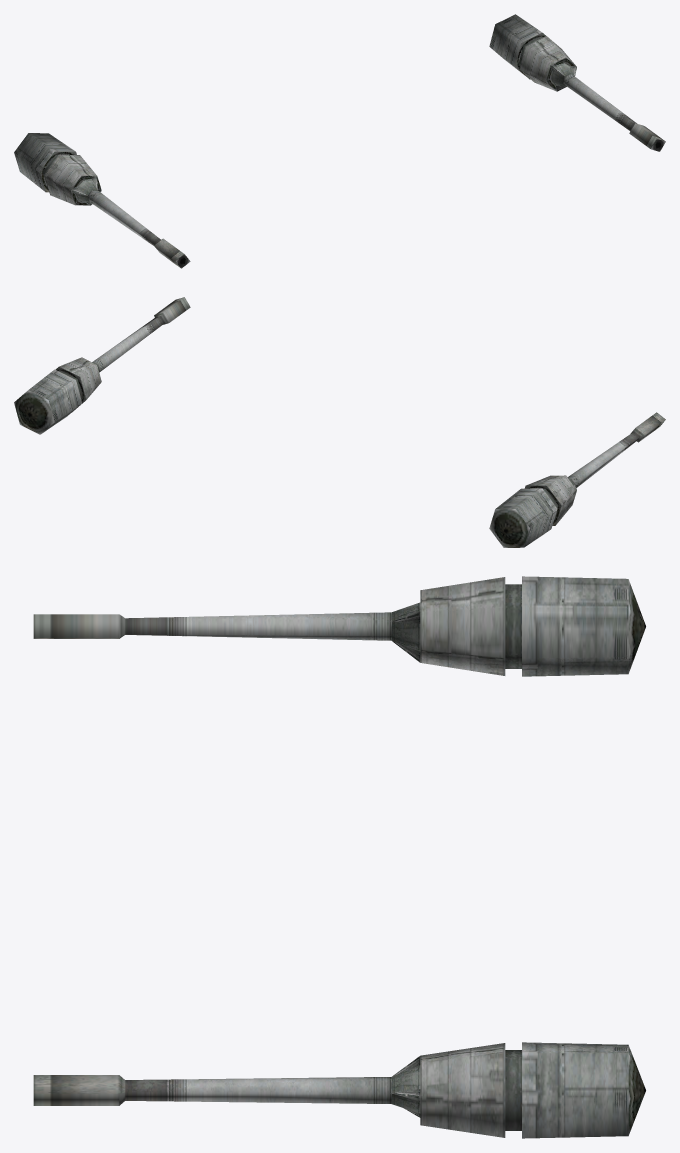
The model's file is black_sun_fighter_medium_weapon2_s05_l1.fbx.
The picture shows the model from 3 angles, top to bottom: view 1: azimuth 30°, elevation 25°; view 2: azimuth 150°, elevation 25°; view 3: azimuth 270°, elevation 25°; orthographic projection. The views are drawn at different scales.
Parts seen in each view (by area): view 1: mesh_node; view 2: mesh_node; view 3: mesh_node.
Boxes of the visible parts, box(x1,y1,x2,y2) form: mesh_node: box(14, 14, 665, 268); mesh_node: box(14, 297, 665, 547); mesh_node: box(33, 576, 645, 1138).
Bounding box in the file's own units: 7.46 × 0.6059 × 3.82.
1 material, 1 textured.
